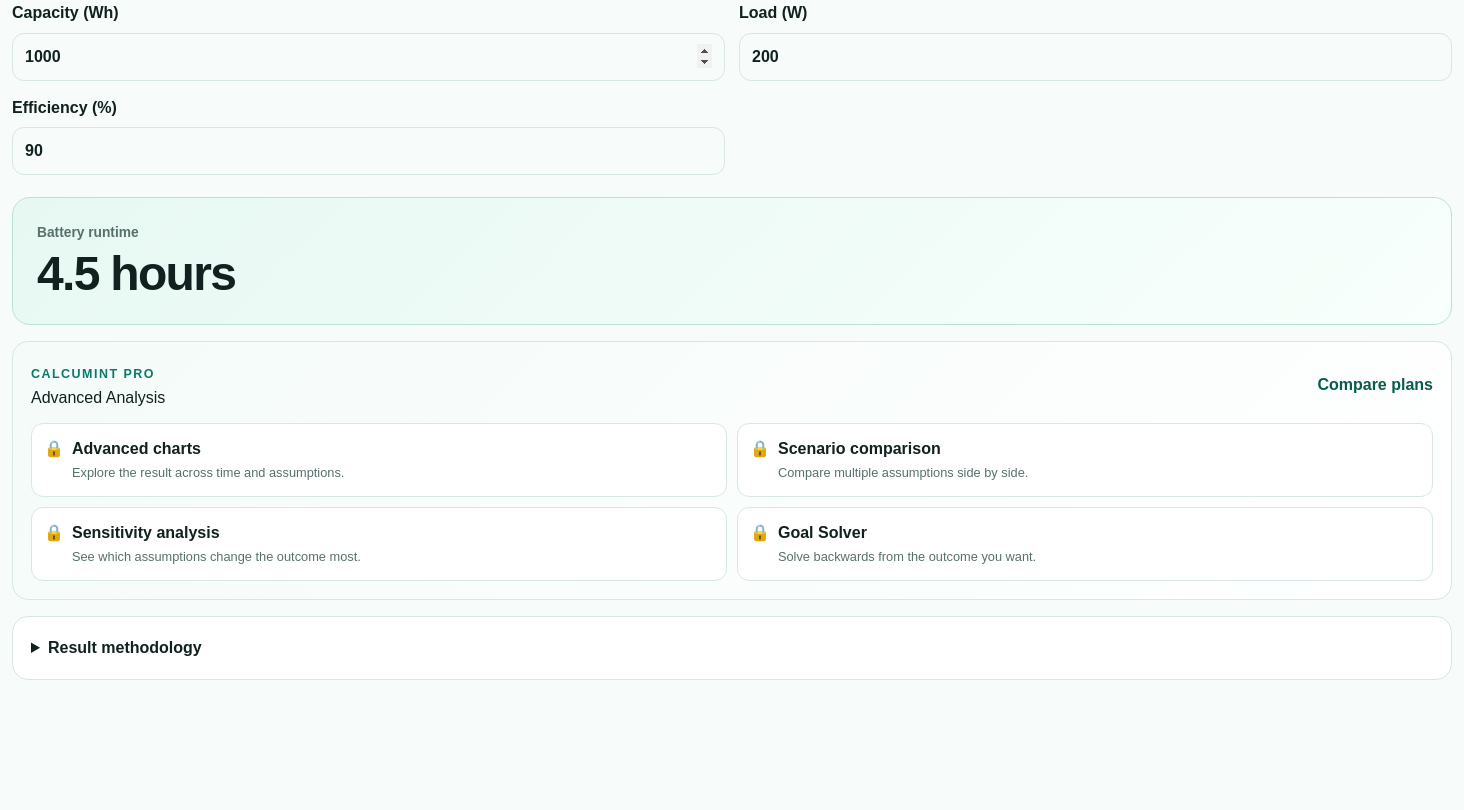
Test: Technology batch 2 UI validation › announces invalid zero battery load
Replace the text in the number field labelled "Load (W)" with "0" at (1096, 57), box x1=739 y1=33 x2=1452 y2=81
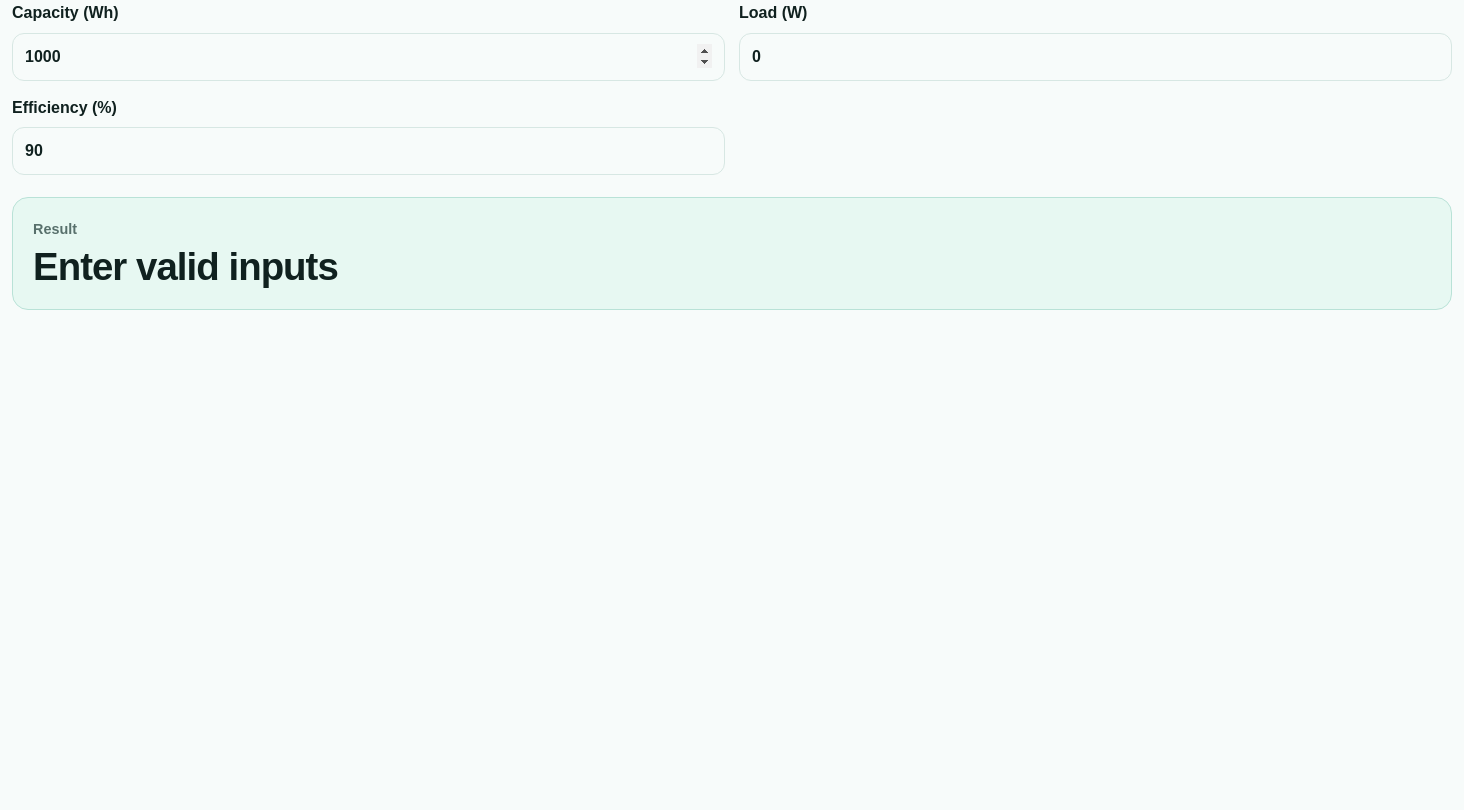
Expected: the message shows "Enter valid inputs", x1=33 y1=245 x2=338 y2=288
